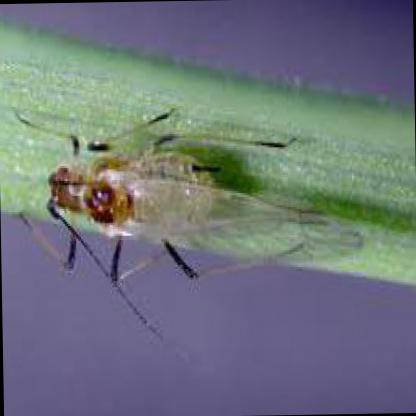schizaphis graminum: (48, 142, 356, 278)
